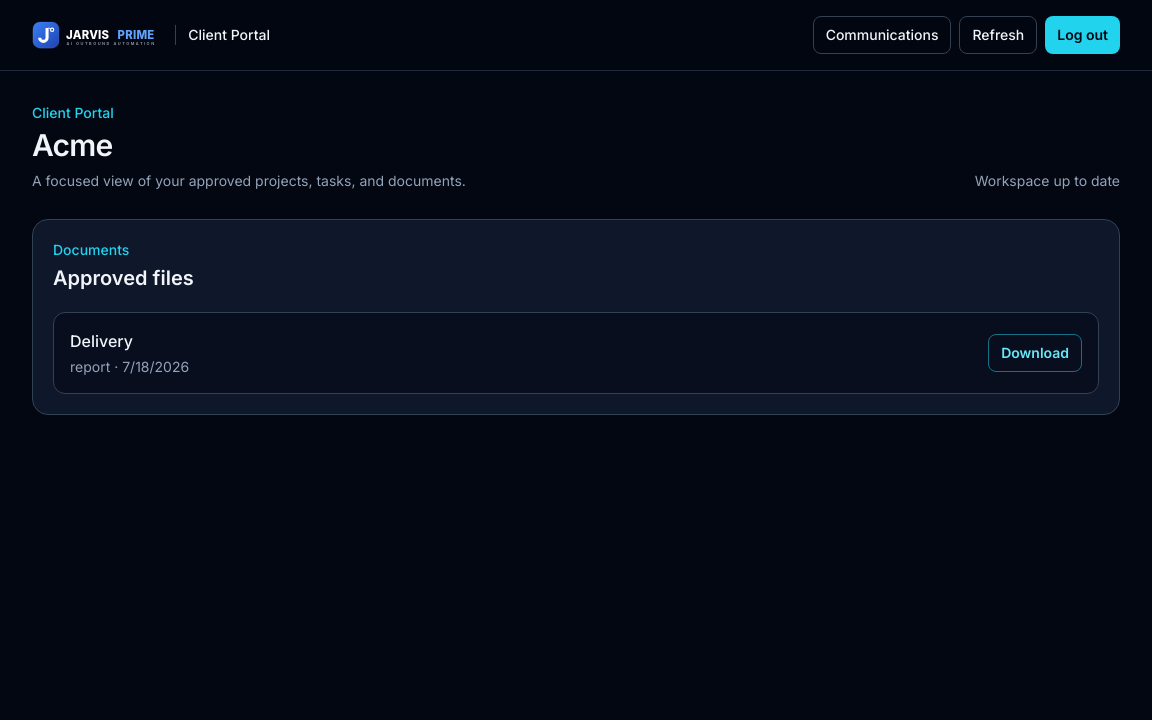
ClientPage shared session boundary › clears client state after a portal denial without prefetching document URLs
expect the heading "Acme" is shown: met, box top-left (32, 127), bottom-right (113, 163)
What coordinates should you click on to do the following:
click the button "Refresh"
I would click on:
 (998, 35)
Its box is top-left (960, 16), bottom-right (1037, 54).
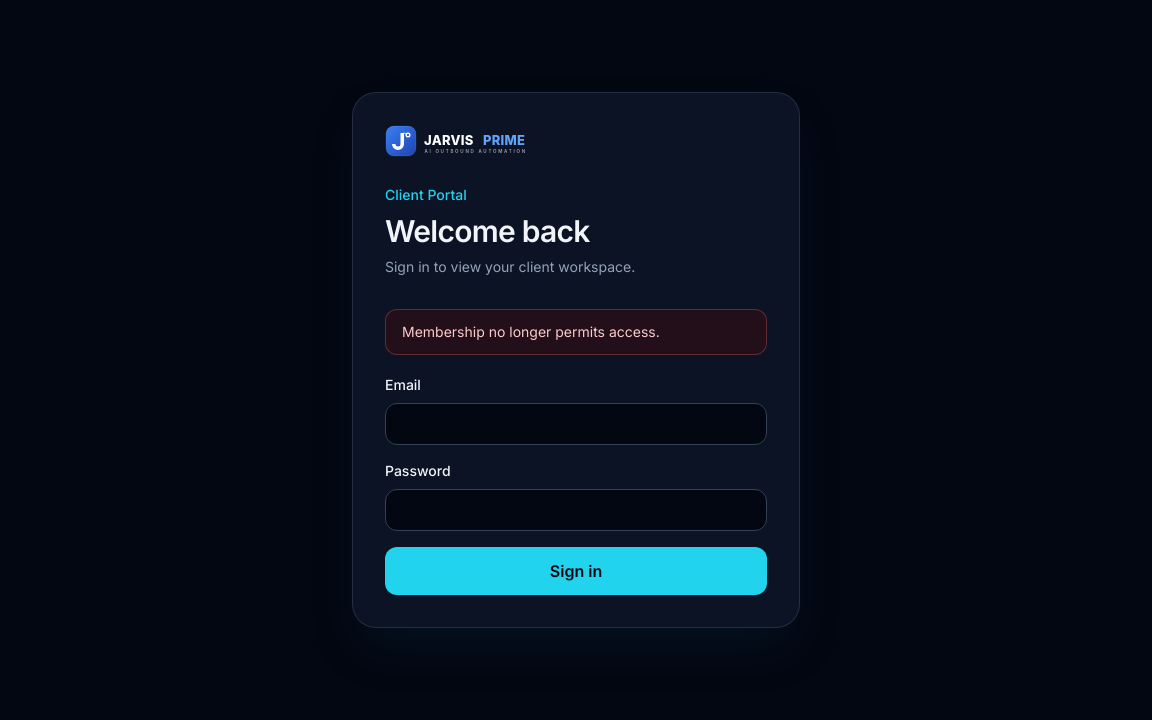
expect the heading "Welcome back" is shown: met, box top-left (385, 213), bottom-right (590, 249)
expect the heading "Acme" is gone: met
